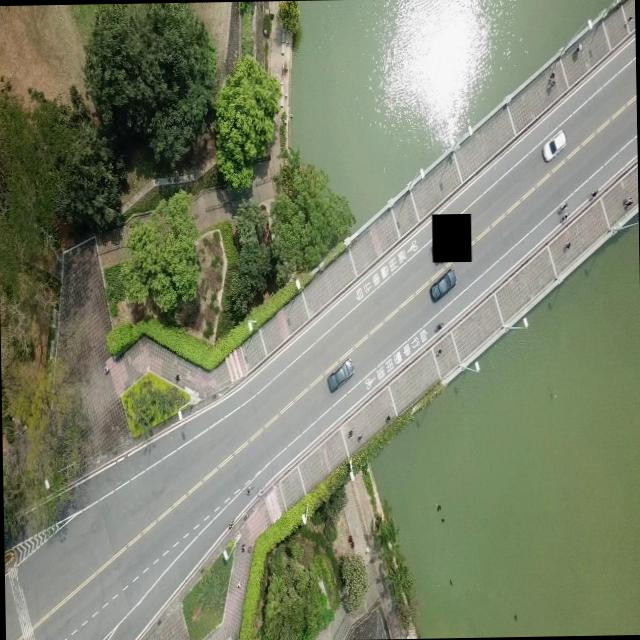bike: (557, 200, 569, 222), (589, 188, 595, 198)
car: (428, 264, 456, 301), (326, 358, 354, 392), (541, 128, 566, 161)
